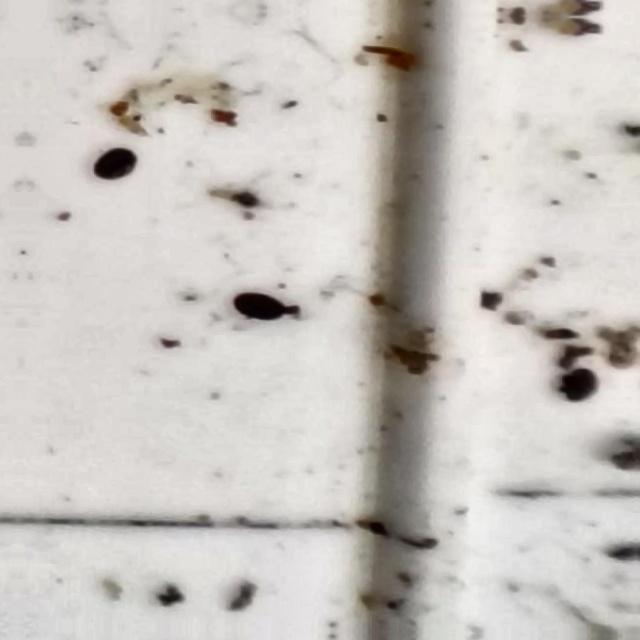varroa: (233, 293, 288, 324), (92, 146, 137, 183), (558, 367, 596, 403)
